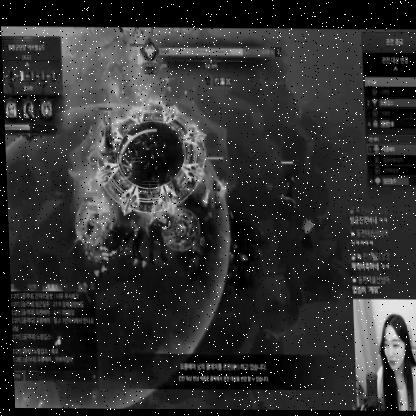streamer: (372, 312, 416, 410)
